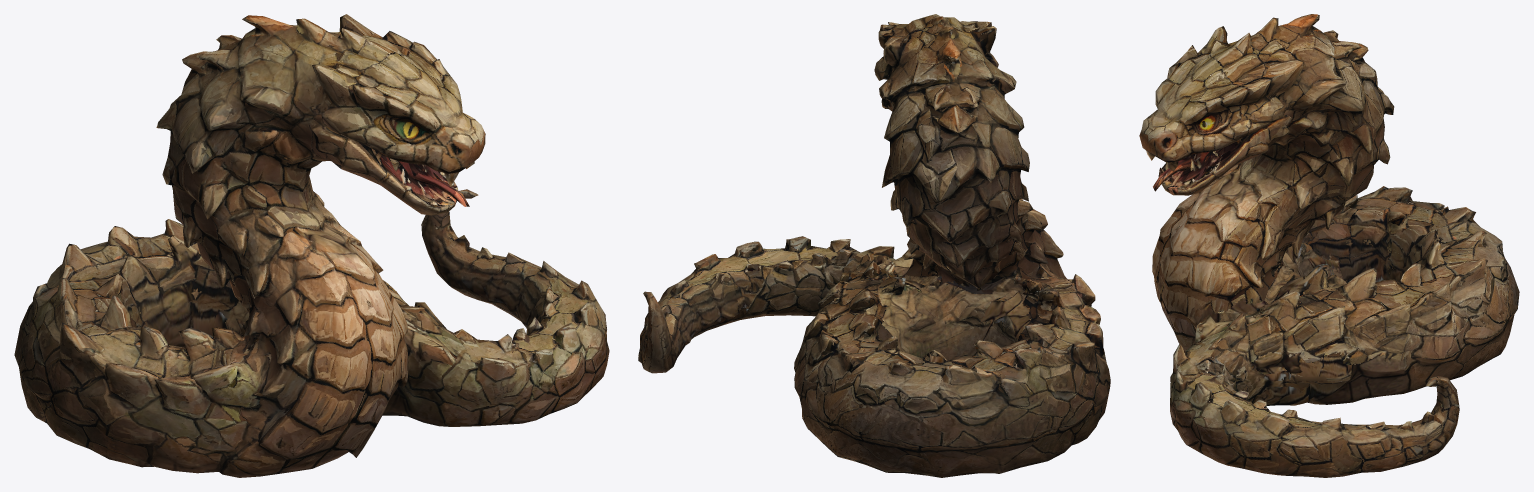
Rendered from BabySnake.glb.
3 renders of one model, left to right at view 1: azimuth 30°, elevation 25°; view 2: azimuth 150°, elevation 25°; view 3: azimuth 270°, elevation 25°, orthographic. The views are drawn at different scales.
Visible parts, largest first — view 1: texture_mapping; view 2: texture_mapping; view 3: texture_mapping.
Part boxes in pixels (x1,y1,x2,y2): texture_mapping: [14, 14, 609, 477]; texture_mapping: [638, 14, 1110, 477]; texture_mapping: [1139, 14, 1519, 477].
Bounding box in the file's own units: 0.9962 × 0.7379 × 0.7541.
1 material, 1 textured.
